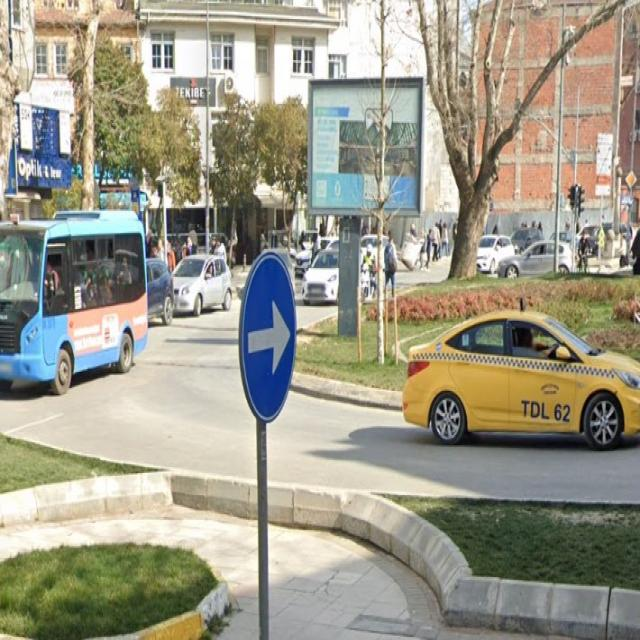Turn Right: (233, 250, 304, 421)
